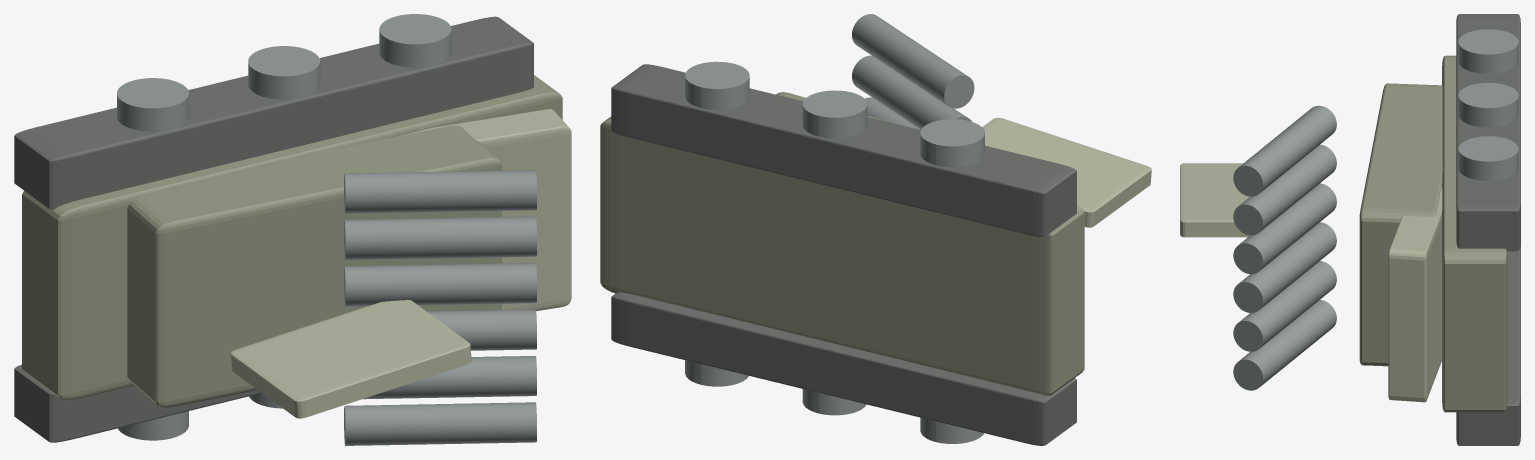
File: v-u15-vanguard-mobile-sam-lod2.glb
The picture shows the model from 3 angles, left to right: view 1: azimuth 30°, elevation 25°; view 2: azimuth 150°, elevation 25°; view 3: azimuth 270°, elevation 25°; orthographic projection. The views are drawn at different scales.
Parts seen in each view (by area): view 1: upper_hull, chassis_track_1, chassis_lower, sam_radar_array, chassis_glacis, sam_tube_6, sam_tube_1, sam_tube_5, sam_tube_4, chassis_track_-1, sam_tube_2, sam_tube_3 (+4 smaller); view 2: chassis_lower, chassis_track_1, chassis_track_-1, sam_radar_array, sam_tube_6, sam_tube_5, chassis_roadwheel_1_3, chassis_roadwheel_1_1, chassis_roadwheel_1_5, chassis_roadwheel_-1_3, chassis_roadwheel_-1_5, chassis_roadwheel_-1_1 (+1 smaller); view 3: upper_hull, chassis_lower, chassis_glacis, chassis_track_1, chassis_track_-1, sam_radar_array, sam_tube_6, sam_tube_5, sam_tube_1, sam_tube_2, sam_tube_4, sam_tube_3 (+3 smaller).
Boxes of the visible parts, bbox=[...] form: upper_hull: bbox=[127, 125, 501, 407]; chassis_track_1: bbox=[14, 16, 533, 209]; chassis_lower: bbox=[22, 75, 562, 400]; sam_radar_array: bbox=[230, 300, 471, 418]; chassis_glacis: bbox=[398, 109, 571, 310]; sam_tube_6: bbox=[344, 170, 536, 213]; sam_tube_1: bbox=[344, 402, 536, 445]; sam_tube_5: bbox=[344, 216, 536, 260]; sam_tube_4: bbox=[344, 263, 536, 306]; chassis_track_-1: bbox=[14, 364, 261, 442]; sam_tube_2: bbox=[362, 356, 536, 399]; sam_tube_3: bbox=[344, 309, 536, 350]; chassis_lower: bbox=[600, 116, 1084, 395]; chassis_track_1: bbox=[611, 64, 1076, 236]; chassis_track_-1: bbox=[611, 292, 1076, 445]; sam_radar_array: bbox=[982, 117, 1151, 227]; sam_tube_6: bbox=[852, 14, 974, 108]; sam_tube_5: bbox=[852, 55, 971, 129]; chassis_roadwheel_1_3: bbox=[802, 90, 867, 138]; chassis_roadwheel_1_1: bbox=[920, 119, 984, 167]; chassis_roadwheel_1_5: bbox=[685, 61, 749, 109]; chassis_roadwheel_-1_3: bbox=[802, 389, 866, 415]; chassis_roadwheel_-1_5: bbox=[685, 360, 748, 386]; chassis_roadwheel_-1_1: bbox=[920, 417, 983, 443]; upper_hull: bbox=[1359, 83, 1442, 366]; chassis_lower: bbox=[1442, 55, 1507, 412]; chassis_glacis: bbox=[1388, 187, 1442, 402]; chassis_track_1: bbox=[1456, 14, 1520, 251]; chassis_track_-1: bbox=[1456, 243, 1520, 445]; sam_radar_array: bbox=[1180, 163, 1249, 237]; sam_tube_6: bbox=[1233, 105, 1336, 196]; sam_tube_5: bbox=[1233, 144, 1336, 235]; sam_tube_1: bbox=[1233, 299, 1336, 390]; sam_tube_2: bbox=[1233, 261, 1336, 351]; sam_tube_4: bbox=[1233, 183, 1336, 274]; sam_tube_3: bbox=[1233, 222, 1336, 312].
Size of what is drawn, in the model's own units: 6.1 by 3.83 by 4.27.
